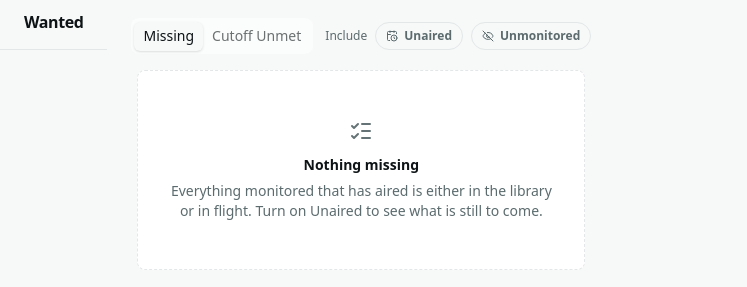
Test case: hoists shared goals to the cutoff group header
What coordinates should you click on to do the following:
click the tab "Cutoff Unmet"
I would click on:
 (257, 36)
Its box is [203,22,310,50].
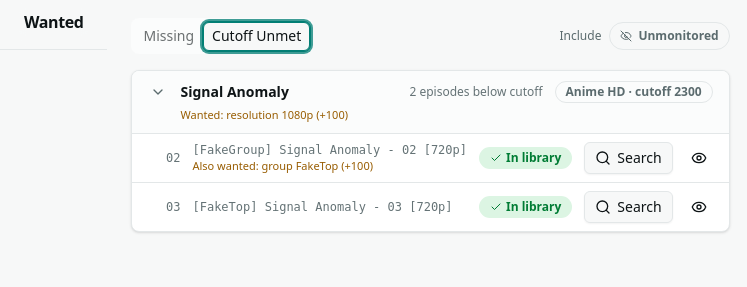
Expected: the text "[FakeGroup] Signal Anomaly - 02 [720p]" is shown, [192,142,467,158]
Expected: the text "2 episodes below cutoff" is shown, [409,84,542,100]
Expected: the text "Wanted: resolution 1080p (+100)" is shown, [180,107,348,122]
